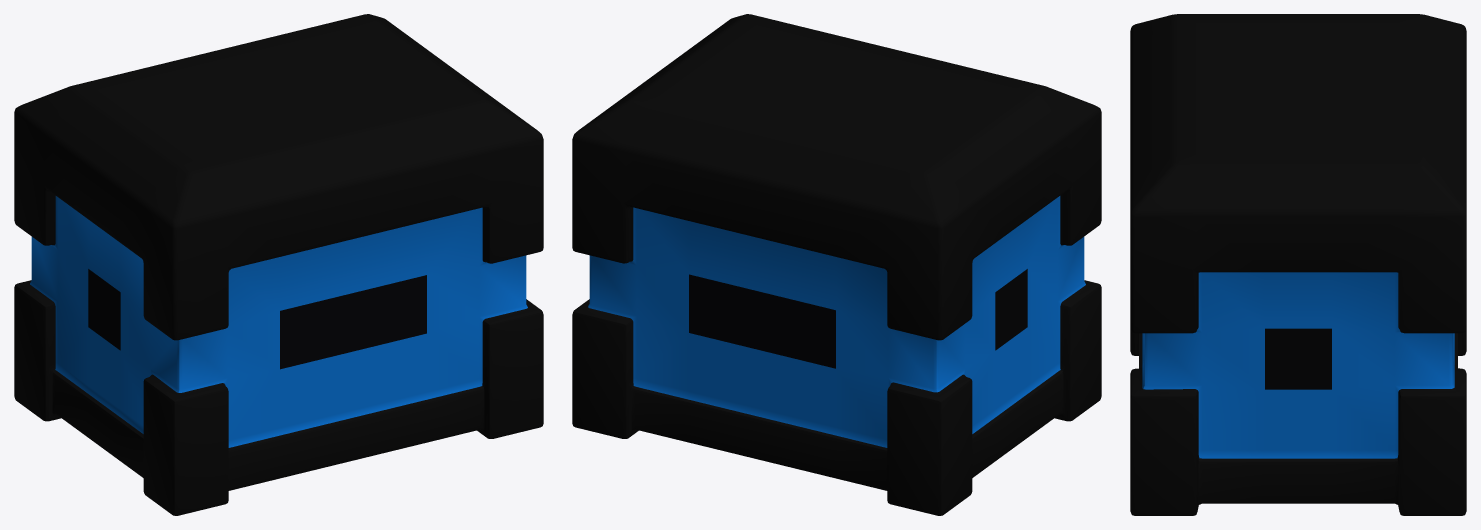
The model's file is crate.fbx.
3 renders of one model, left to right at view 1: azimuth 30°, elevation 25°; view 2: azimuth 150°, elevation 25°; view 3: azimuth 270°, elevation 25°, orthographic. The views are drawn at different scales.
Visible parts, largest first — view 1: Box003; view 2: Box003; view 3: Box003.
Boxes of the visible parts, x1=… form: Box003: x1=14, y1=14, x2=543, y2=515; Box003: x1=572, y1=14, x2=1101, y2=515; Box003: x1=1130, y1=14, x2=1466, y2=515.
Bounding box in the file's own units: 53.06 × 43.9 × 40.
